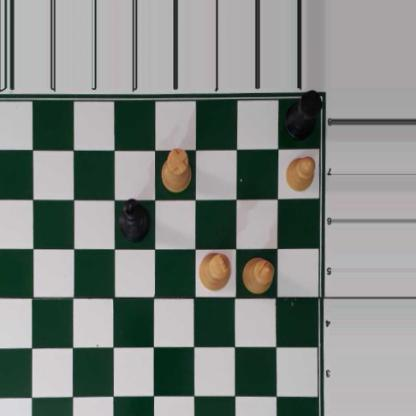black-king: (117, 197, 151, 242)
black-rook: (282, 88, 321, 141)
white-bishop: (241, 255, 276, 294)
white-king: (197, 250, 232, 292)
white-pawn: (285, 154, 316, 191)
white-rook: (159, 149, 193, 192)
